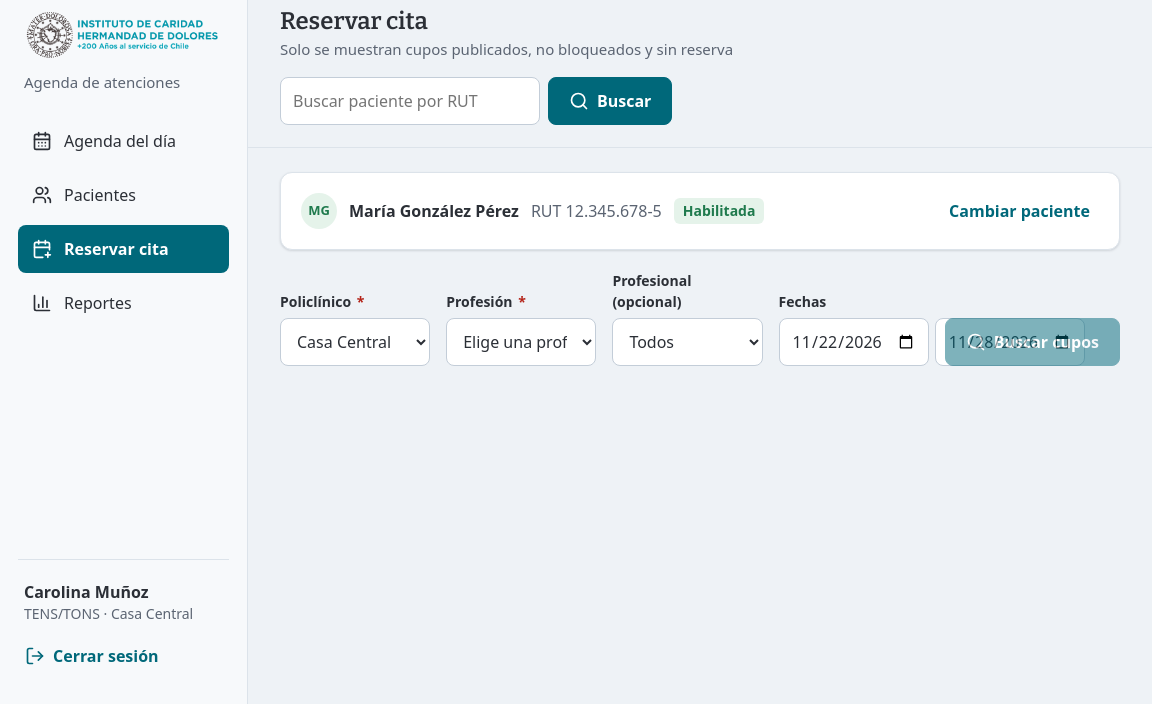
Test: Reservar cita: recorrido A (CU-04) › si otra persona tomó el horario muestra el 409 en lenguaje simple
Select "Medicina" in the dropdown labelled "Profesión *" at (521, 342), box [446,318,596,366]
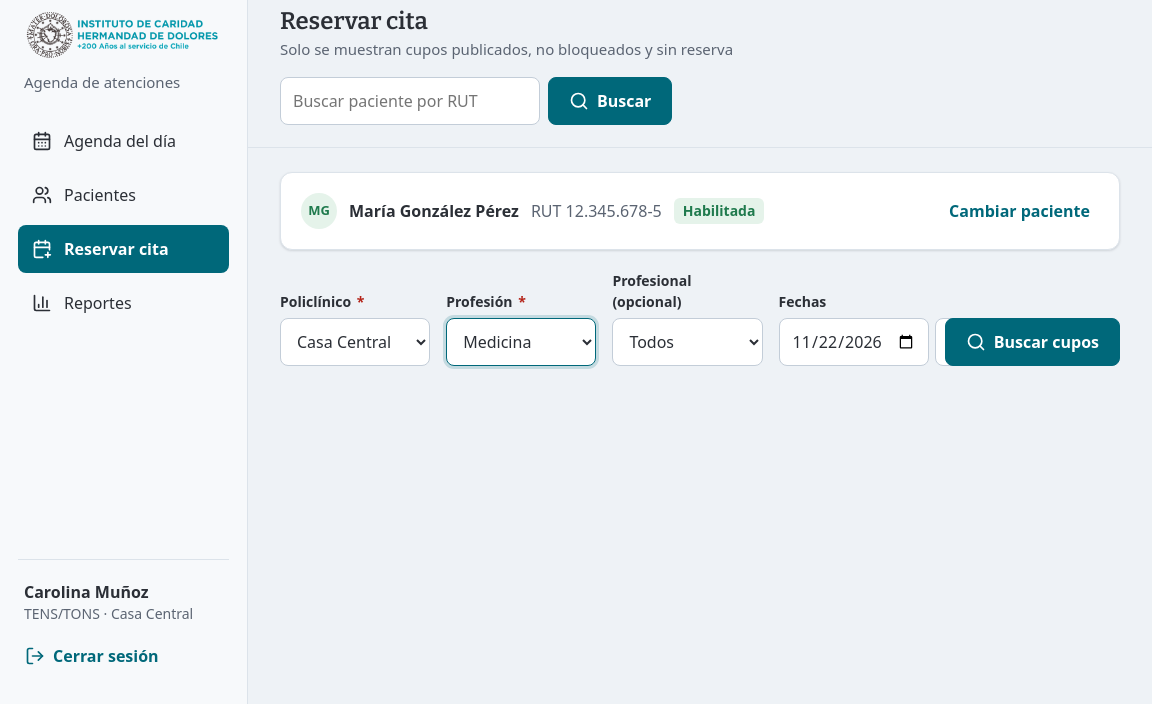
Click the button "Buscar cupos".
click(1032, 342)  # box [945,318,1120,366]
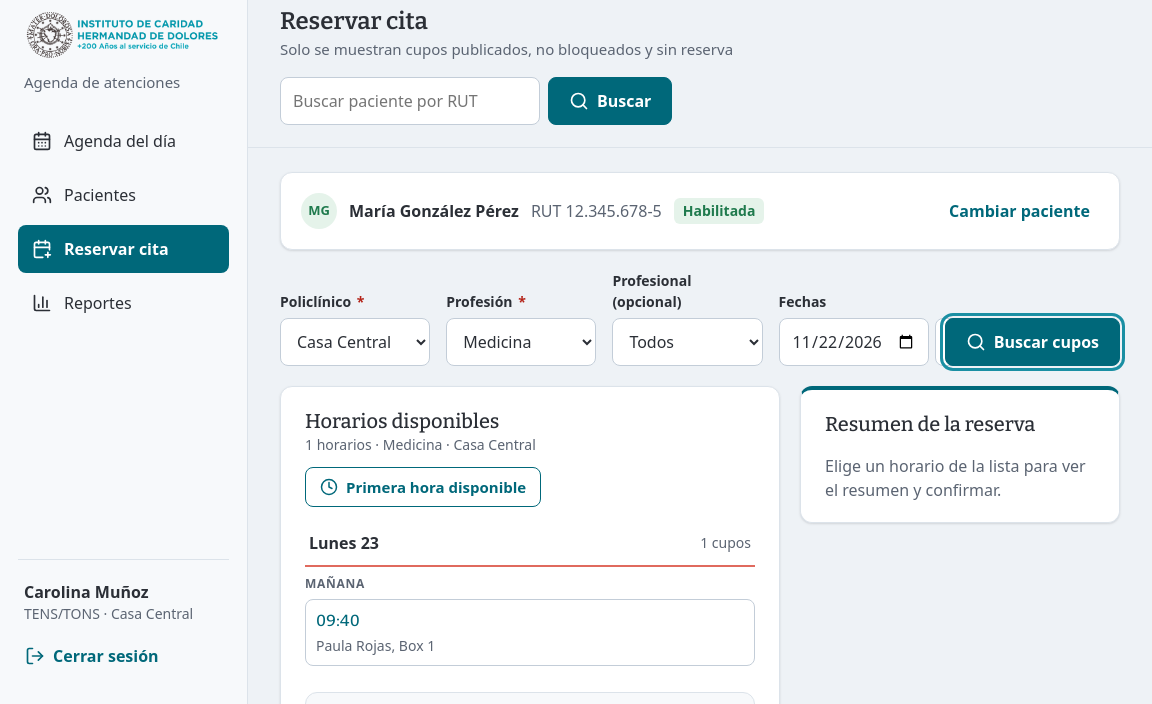
Click the button "09:40Paula Rojas, Box 1".
click(338, 620)  # box [305,598,755,666]
(page scrolled)
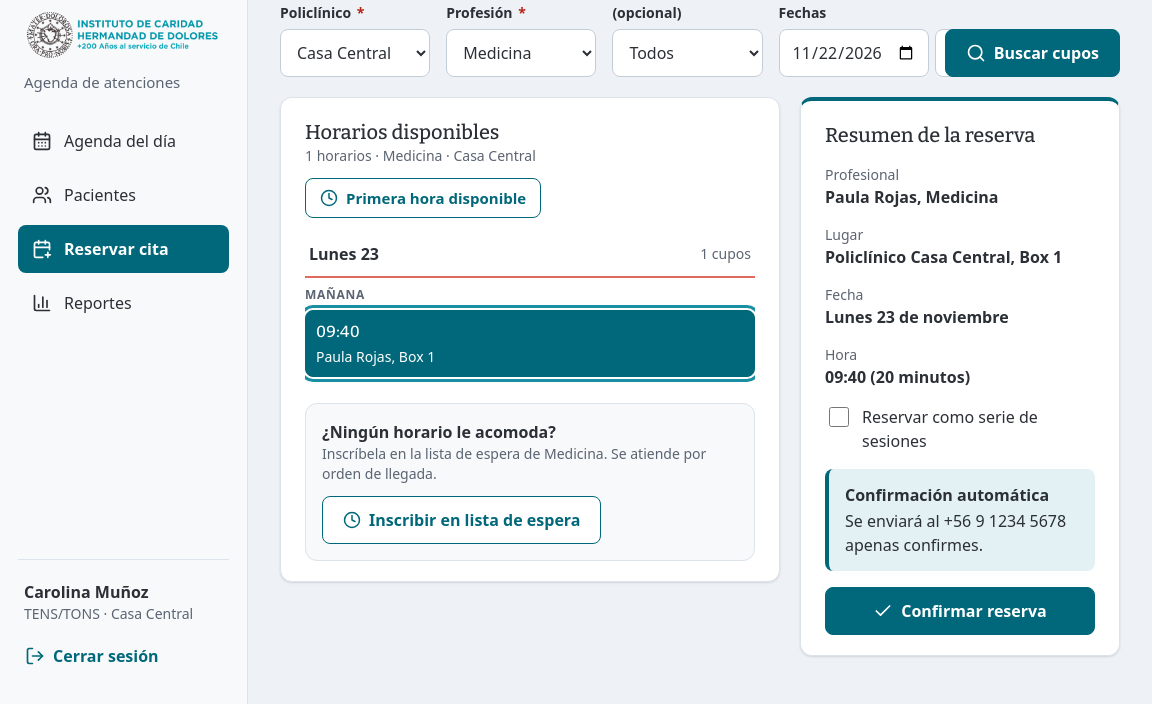
Click the button "Confirmar reserva".
click(960, 610)  # box [825,586,1095,634]
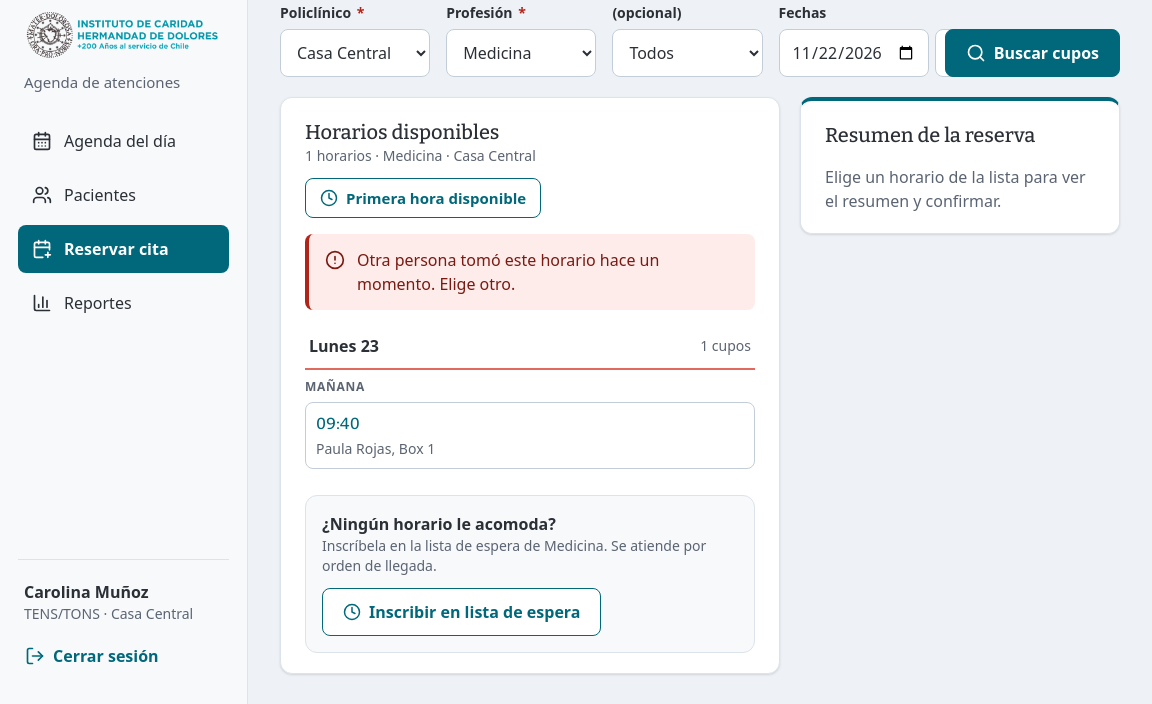
Now the text "Otra persona tomó este horario hace un momento. Elige otro." is shown, box [357,248,659,294]
